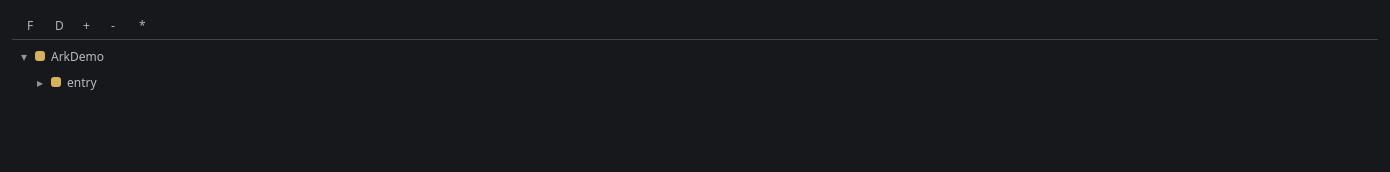
Project tool window › shows a loading row while lazy directory children are loading
The image size is (1390, 172).
Click the button "▸ entry": (40, 82) [12,70,1378,94]
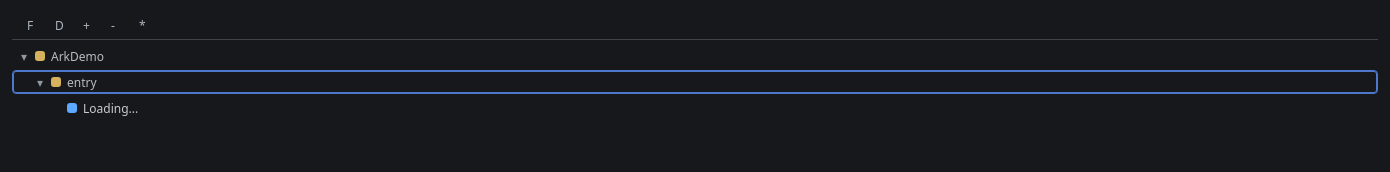
Check: the message reads "Loading...", box [83,100,138,116]
